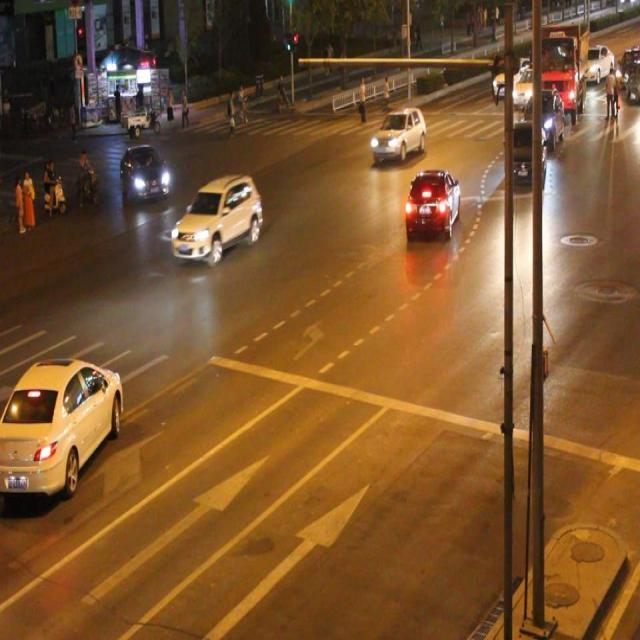car: (0, 358, 124, 492), (171, 175, 261, 261), (404, 165, 461, 239), (370, 108, 426, 162), (503, 120, 547, 188), (120, 142, 169, 202)
